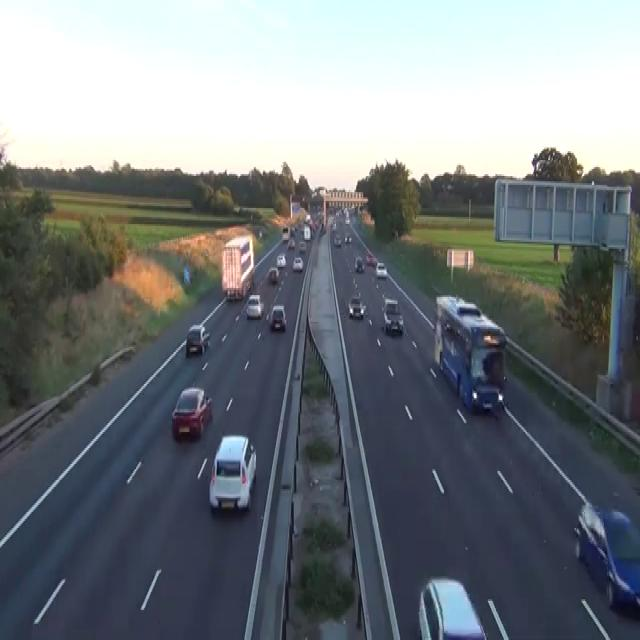Car: (573, 502, 639, 612), (418, 576, 487, 638), (209, 434, 256, 512), (171, 386, 212, 441), (185, 324, 210, 356), (383, 297, 403, 334), (269, 304, 286, 331), (245, 294, 264, 318), (348, 295, 365, 318), (384, 297, 398, 313), (304, 213, 316, 231), (375, 262, 387, 278), (292, 256, 303, 272), (268, 266, 279, 282), (354, 256, 364, 272), (365, 252, 376, 265), (276, 252, 286, 266), (183, 265, 190, 284), (333, 233, 341, 245), (319, 222, 326, 235), (287, 238, 295, 249), (298, 240, 306, 251), (446, 183, 454, 192), (344, 233, 351, 243), (233, 204, 240, 213), (290, 226, 296, 236), (392, 228, 398, 238), (304, 214, 311, 222), (331, 221, 336, 231), (258, 228, 262, 238), (345, 215, 349, 224)
Truck: (433, 294, 506, 414), (221, 234, 254, 300), (303, 224, 310, 240), (282, 224, 289, 240)
